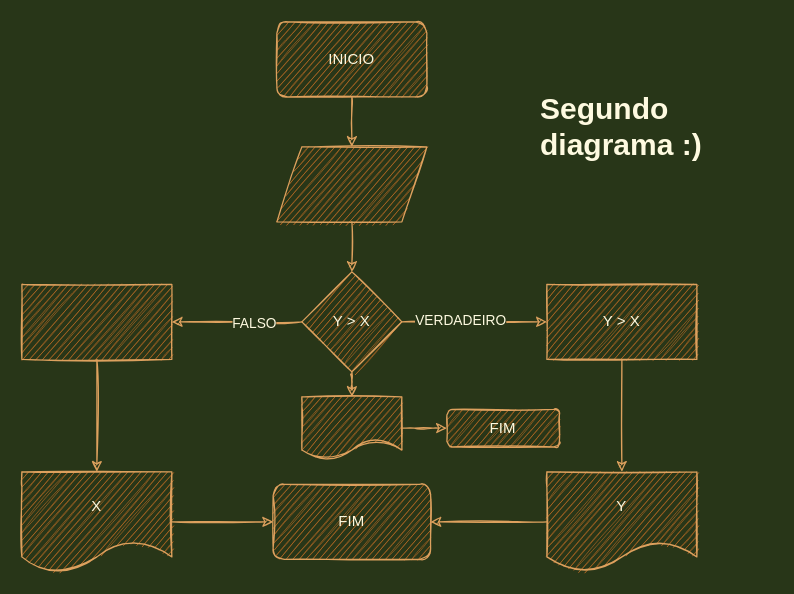
Some shapes in this 794 by 594 pixel diagram are drawn without their labels. Here are the shapes that lost their labels. From the top down, the centre of each, then its label:
point 351,184: A e B
point 96,321: X > Y
point 351,427: SAO IGUAIS
